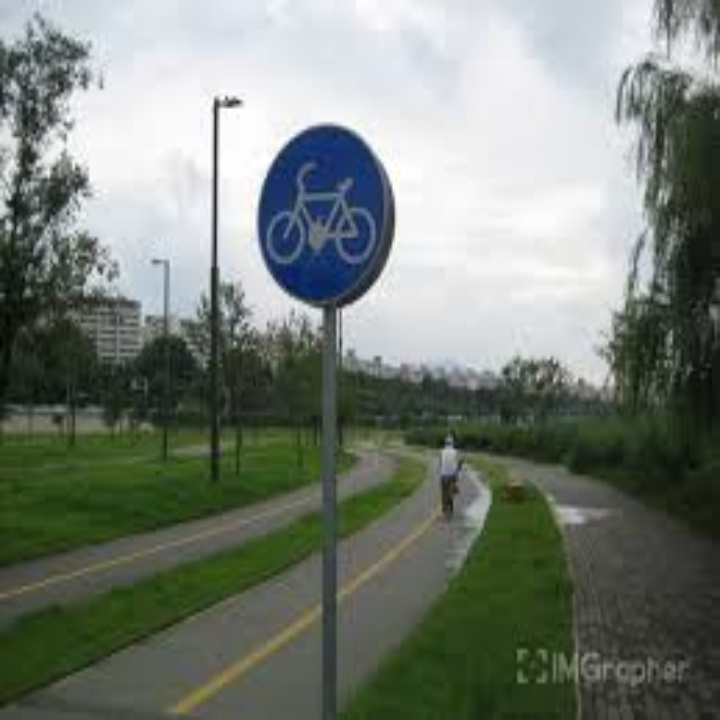bicycle: (261, 157, 376, 268)
